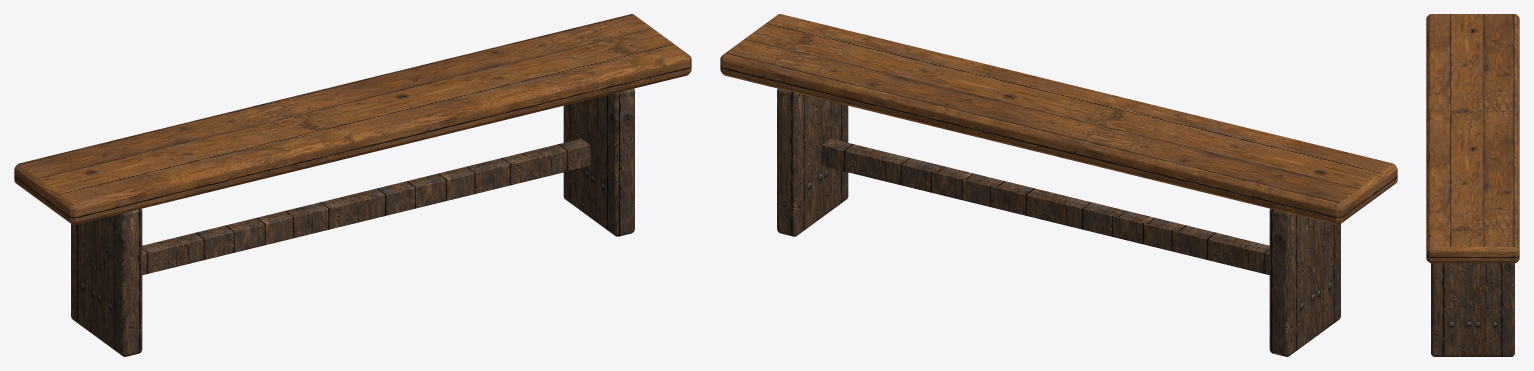
Rendered from long-bench-v01.glb.
3 views of the same model, side by side, from view 1: azimuth 30°, elevation 25°; view 2: azimuth 150°, elevation 25°; view 3: azimuth 270°, elevation 25° (orthographic). The views are drawn at different scales.
Parts seen in each view (by area): view 1: long-bench; view 2: long-bench; view 3: long-bench.
Boxes of the visible parts, x1=… form: long-bench: x1=14, y1=14, x2=691, y2=356; long-bench: x1=720, y1=14, x2=1397, y2=356; long-bench: x1=1426, y1=14, x2=1519, y2=356.
Size of the model in its own units: 2.4 by 0.62 by 0.4.
Materials: 2 (2 with a texture image).
